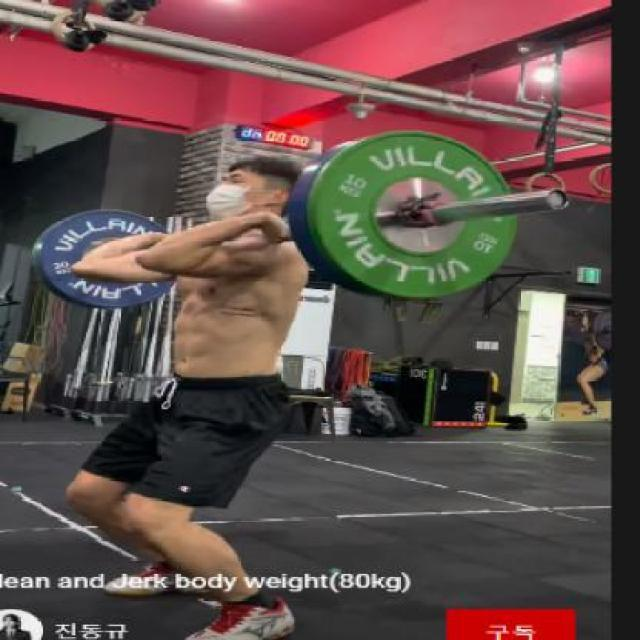barbell: (283, 123, 531, 305)
